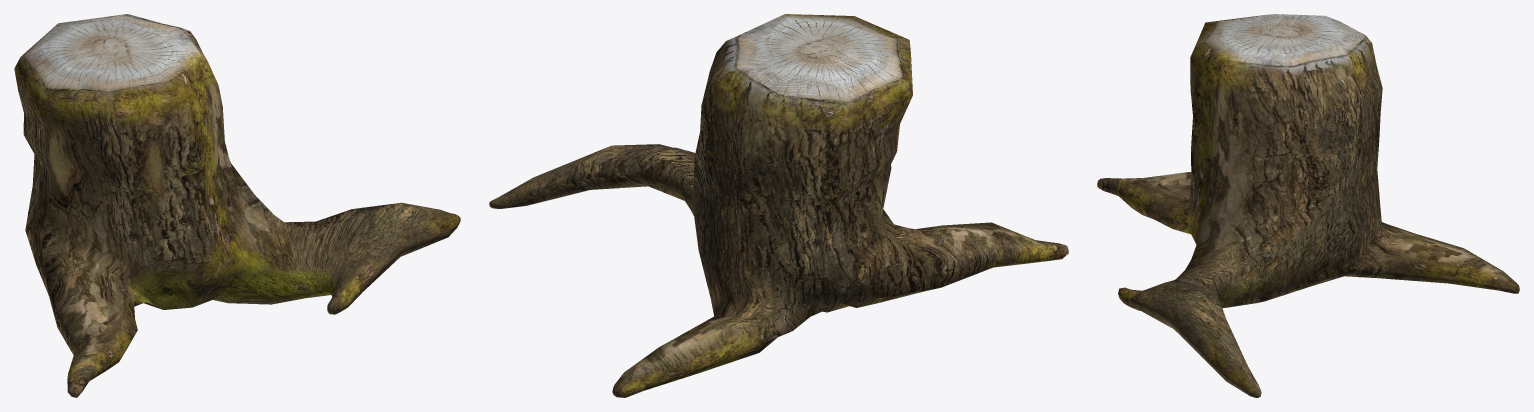
File: treestump.glb
3 views of the same model, side by side, from view 1: azimuth 30°, elevation 25°; view 2: azimuth 150°, elevation 25°; view 3: azimuth 270°, elevation 25° (orthographic). The views are drawn at different scales.
Parts seen in each view (by area): view 1: objStump1; view 2: objStump1; view 3: objStump1.
Part boxes in pixels (x1,y1,x2,y2): objStump1: (14,14,460,397); objStump1: (489,14,1068,397); objStump1: (1097,14,1519,397).
Size of the model in its own units: 44.24 by 23.21 by 37.83.
1 material, 1 textured.
